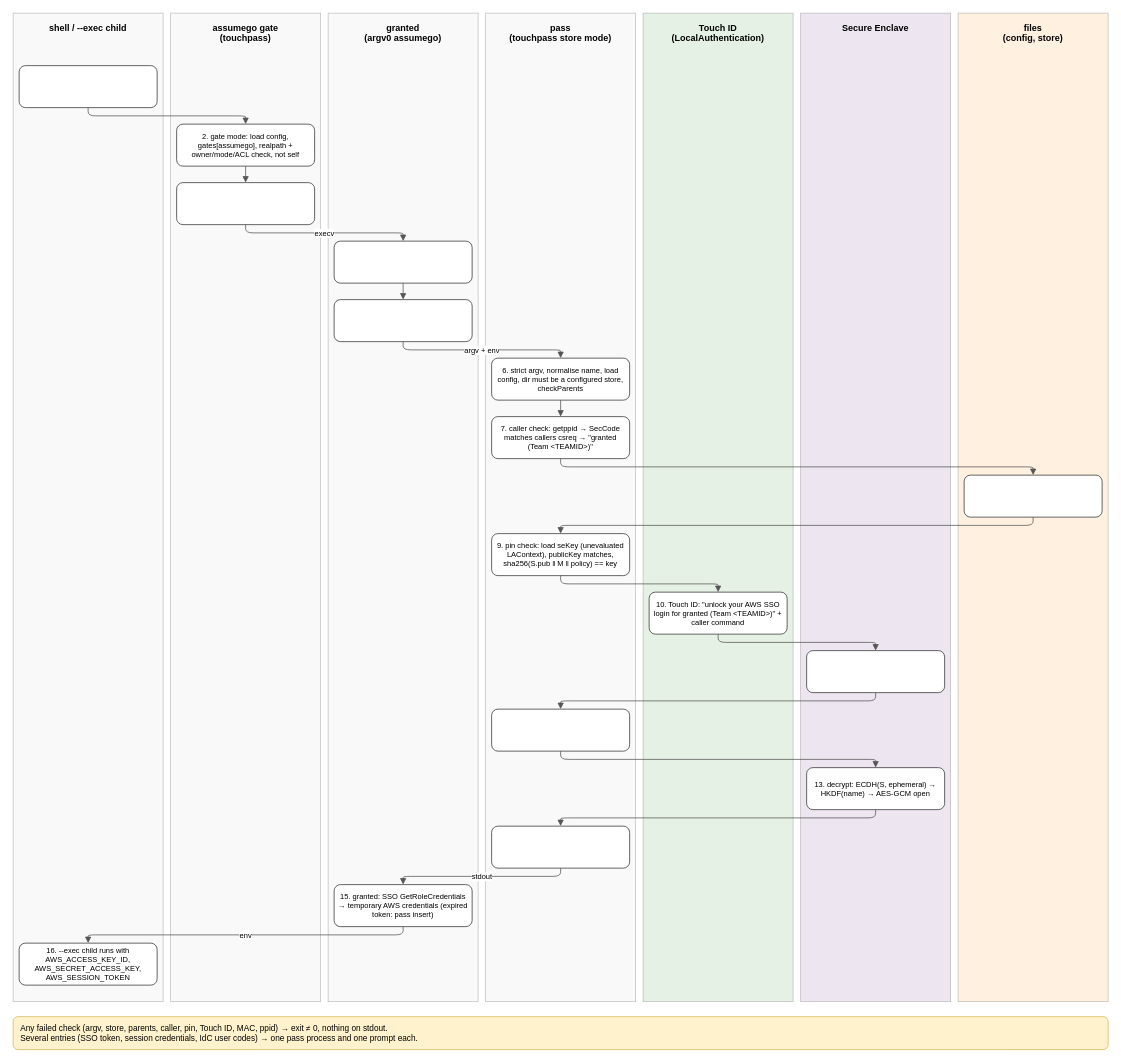
Some shapes in this 1121 by 1063 pixel diagram are drawn without their labels. The centre of each missing label's shape, as x and y in pixels:
1. assume <profile> --exec -- <cmd> shell wrapper → assumego via PATH: the point at 87,86
11. SE key agreement: ECDH(S, M) → HKDF → Kmac: the point at 875,671
12. MAC verify: ephemeral 65 bytes, HMAC(name, ephemeral, sealed): the point at 560,729
14. getppid unchanged → plaintext SSO token to stdout: the point at 560,846
3. prompt false: no Touch ID; withPass: PATH = libexec:$PATH; execv(granted): the point at 245,203
4. keyring pass backend: stat <PassDir>/granted-aws-sso-tokens/<key>.gpg: the point at 402,261
5. exec pass show granted-aws-sso-tokens/<key> PASSWORD_STORE_DIR = PassDir: the point at 402,320
8. open entry fd-relative (O_NOFOLLOW | O_NONBLOCK, ≤ 2 MiB), decode Box: the point at 1032,495
